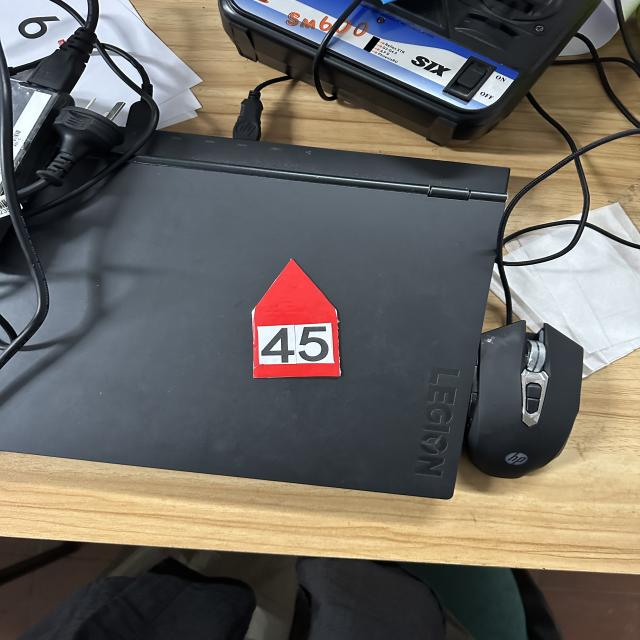board: (249, 257, 343, 382)
